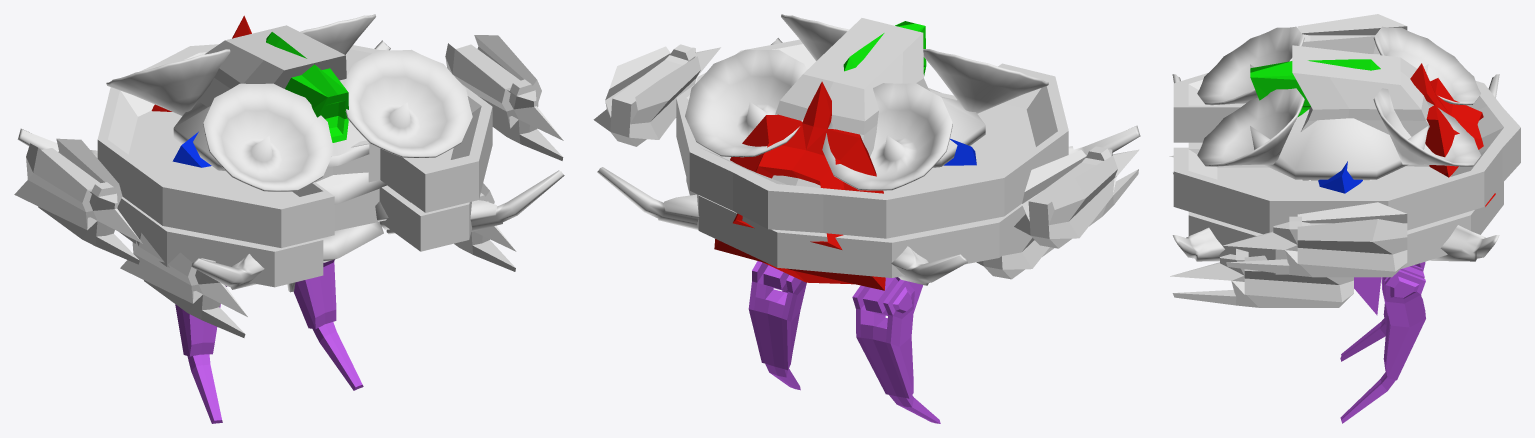
File: Relay.fbx
The picture shows the model from 3 angles, left to right: view 1: azimuth 30°, elevation 25°; view 2: azimuth 150°, elevation 25°; view 3: azimuth 270°, elevation 25°; orthographic projection. The views are drawn at different scales.
Parts seen in each view (by area): view 1: Cylinder, Circle, Laser.002, Body, Head.001; view 2: Cylinder, Circle, Laser.002, Body, Booster, Head.001; view 3: Cylinder, Circle, Laser.002, Body, Booster, Head.001.
Boxes of the visible parts, x1,y1,x2,y2 form: Cylinder: (97,25,492,287); Circle: (17,14,564,292); Laser.002: (14,35,563,337); Body: (172,131,363,423); Head.001: (266,32,348,142); Cylinder: (676,18,1068,277); Circle: (597,14,1140,285); Laser.002: (593,44,1139,279); Body: (748,138,976,423); Booster: (714,81,885,290); Head.001: (843,21,926,75); Cylinder: (1173,45,1520,274); Circle: (1172,26,1499,261); Laser.002: (1169,14,1407,307); Body: (1318,161,1425,423); Booster: (1410,63,1495,206); Head.001: (1250,59,1380,116).
Size of the model in its own units: 1773 by 1260 by 1211.
